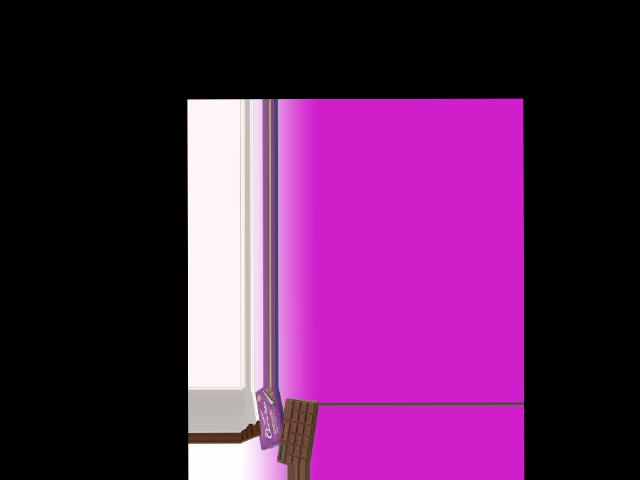chocolate: (275, 399, 319, 462)
